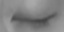RightEyeFatigue: (7, 8, 58, 30)
